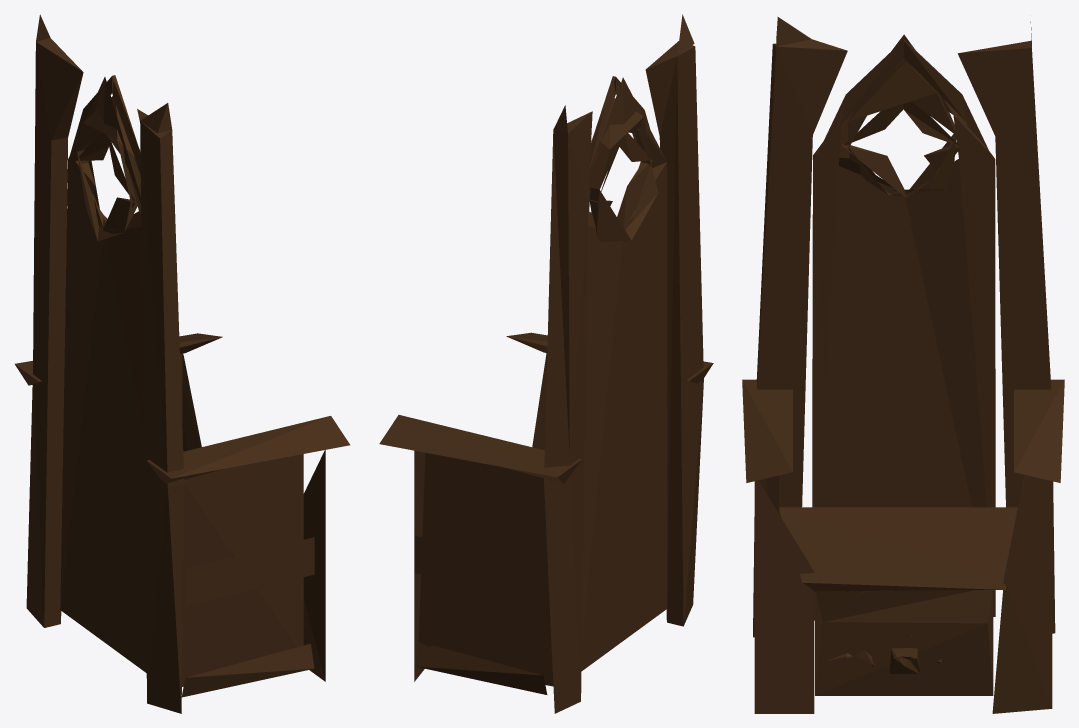
File: throne.lod2.glb
The picture shows the model from 3 angles, left to right: view 1: azimuth 30°, elevation 25°; view 2: azimuth 150°, elevation 25°; view 3: azimuth 270°, elevation 25°; orthographic projection. The views are drawn at different scales.
Visible parts, largest first — view 1: Throne_Throne_0; view 2: Throne_Throne_0; view 3: Throne_Throne_0.
Part boxes in pixels (<box>): Throne_Throne_0: <box>15,14,350,713</box>; Throne_Throne_0: <box>379,14,713,713</box>; Throne_Throne_0: <box>742,17,1064,713</box>.
Bounding box in the file's own units: 0.6974 × 2.19 × 1.03.
